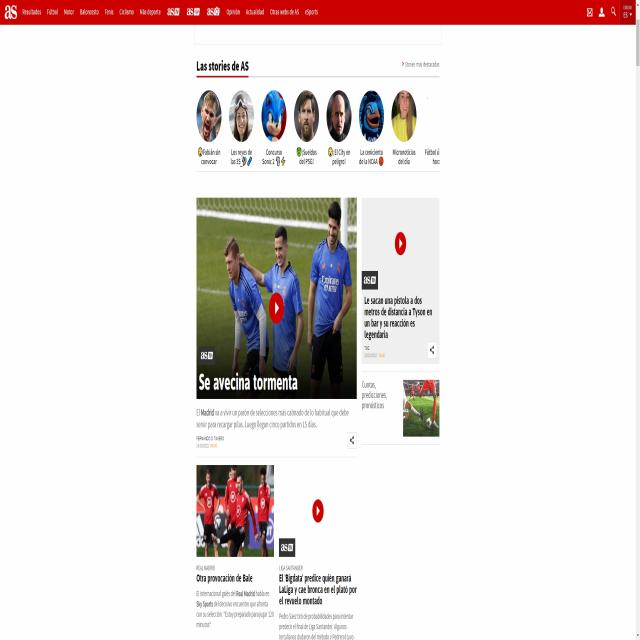tab-bar: (2, 2, 322, 22)
